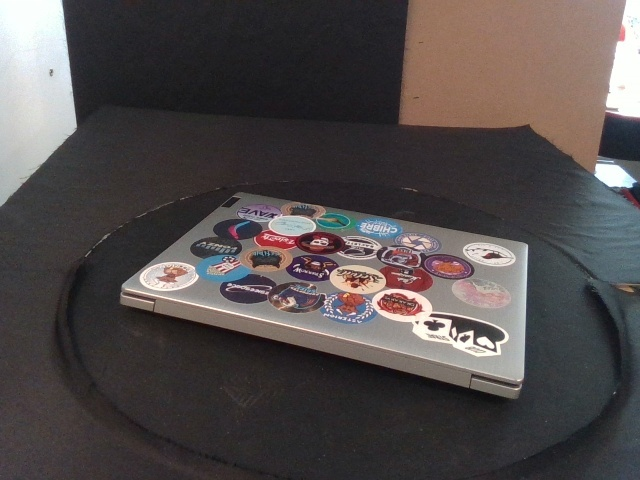laptop: (118, 190, 530, 400)
